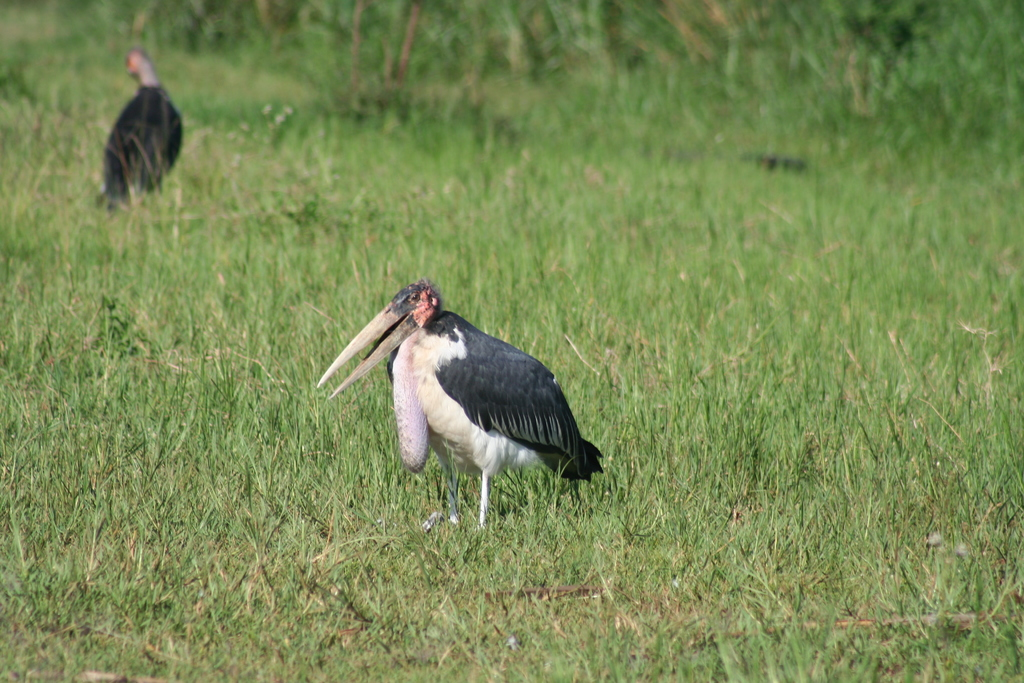Bird: (317, 277, 604, 529), (94, 48, 183, 219)
